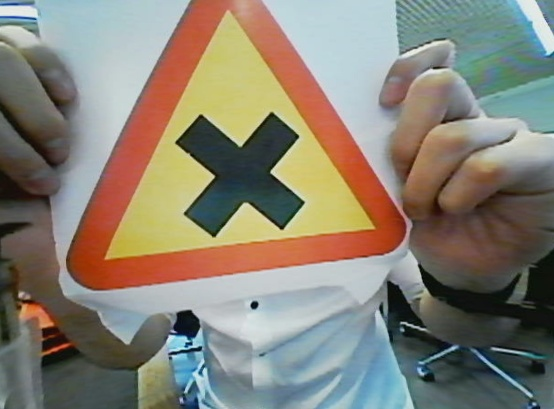junction: (63, 2, 404, 283)
